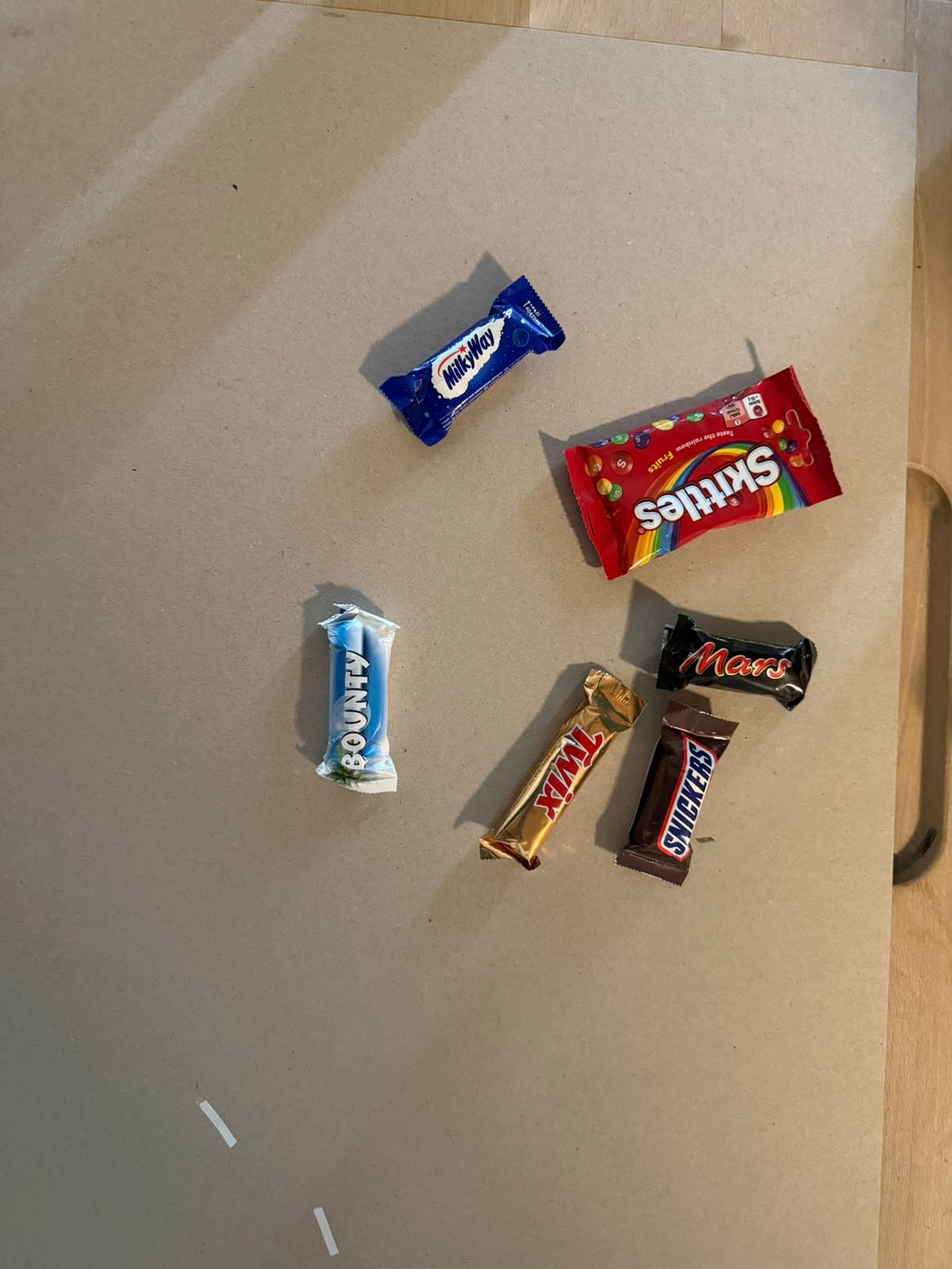Bounty: (319, 610, 404, 795)
Mars: (656, 608, 824, 687)
MilkyWay: (370, 393, 567, 467)
Skittles: (533, 457, 833, 597)
Snickers: (670, 677, 740, 887)
Twix: (591, 648, 672, 911)
